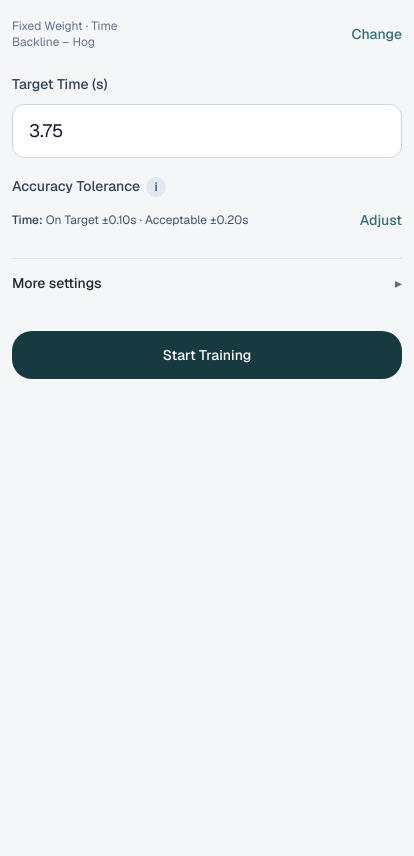
Scenario: the approved compact training setup › reveals an invalid tolerance editor when submitted after closing it
The width and height of the screenshot is (414, 856).
Click the button "Adjust" at (381, 220), box left=360, top=198, right=402, bottom=242
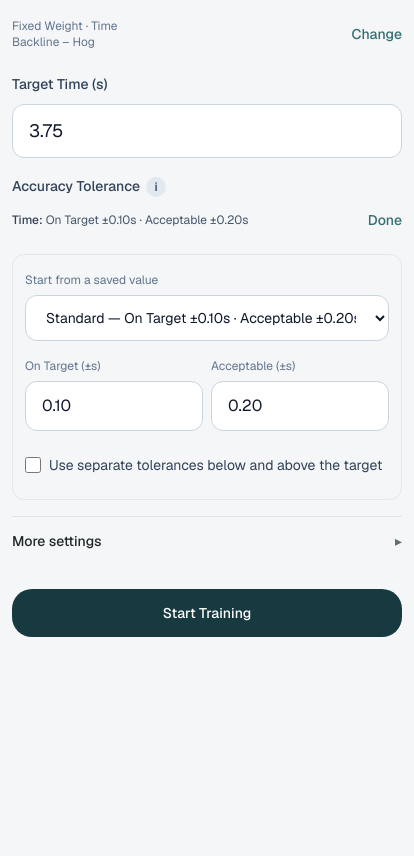
Expected: the field labelled "On Target (±s)" is shown
Clear the field labelled "On Target (±s)" at (114, 406), box left=25, top=381, right=203, bottom=431
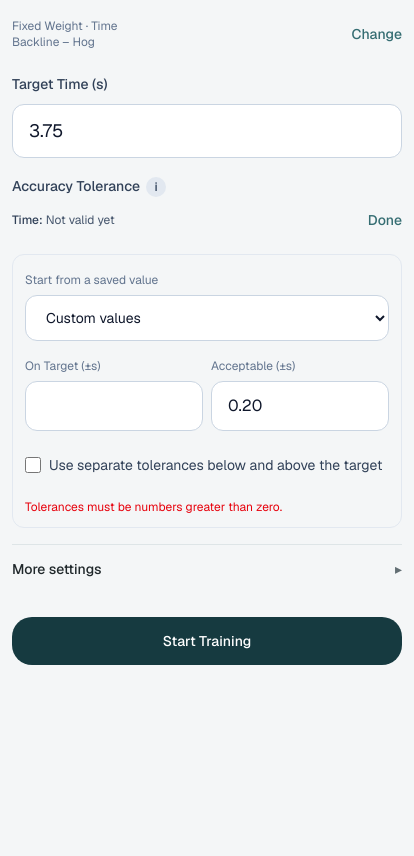
Click the button "Done" at (385, 220), box left=368, top=198, right=402, bottom=242
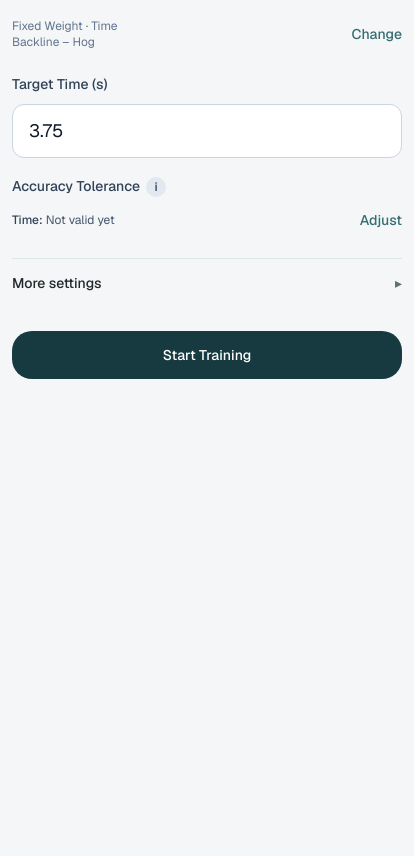
Click the button "Start Training" at (207, 355), box left=12, top=331, right=402, bottom=379
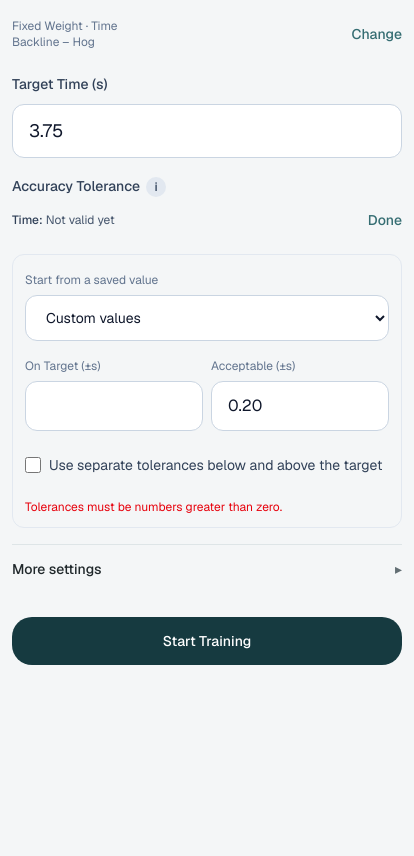
Expected: the button "Done" is expanded, left=368, top=198, right=402, bottom=242
